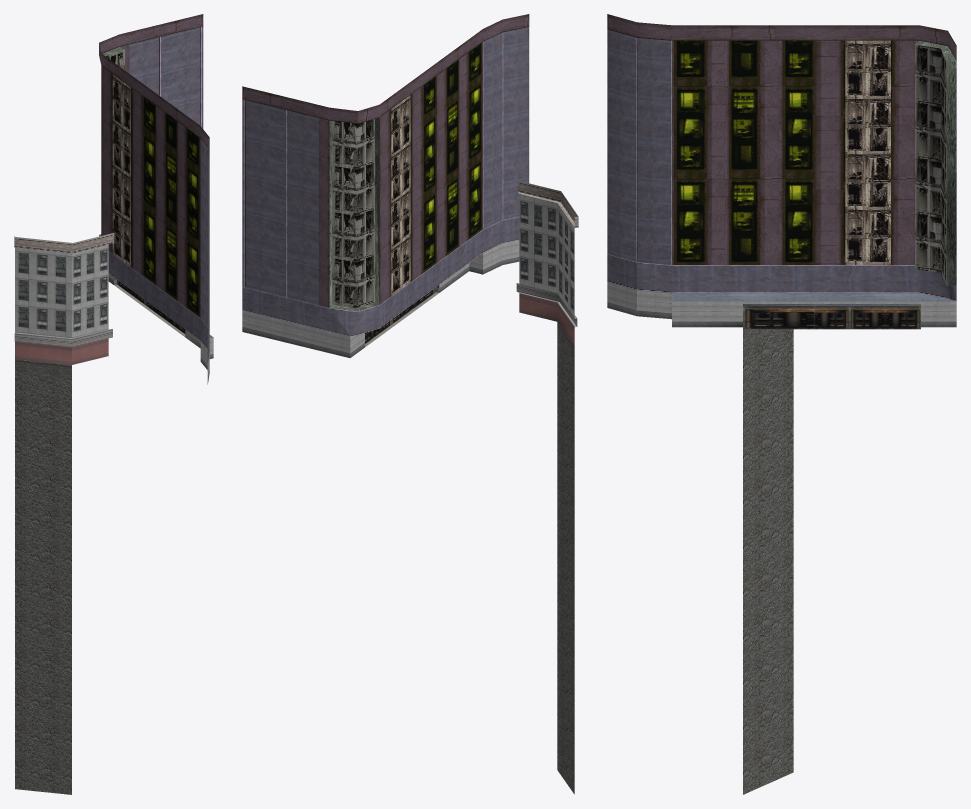
The model's file is STG0100_OS_09.fbx.
3 views of the same model, side by side, from view 1: azimuth 30°, elevation 25°; view 2: azimuth 150°, elevation 25°; view 3: azimuth 270°, elevation 25° (orthographic). The views are drawn at different scales.
Visible parts, largest first — view 1: STG0100_OS_09_s0100_nn003; view 2: STG0100_OS_09_s0100_nn003; view 3: STG0100_OS_09_s0100_nn003.
Part boxes in pixels (bbox=[...]): STG0100_OS_09_s0100_nn003: bbox=[14, 14, 213, 794]; STG0100_OS_09_s0100_nn003: bbox=[242, 14, 578, 794]; STG0100_OS_09_s0100_nn003: bbox=[607, 14, 956, 794].
Bounding box in the file's own units: 647 × 1610 × 613.
